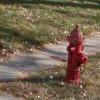Hydrant: (57, 22, 97, 86)
